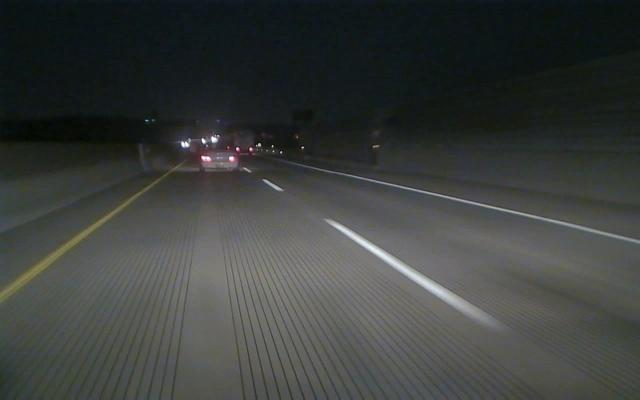lane: (264, 179, 513, 336), (309, 165, 640, 245), (1, 193, 139, 302)
